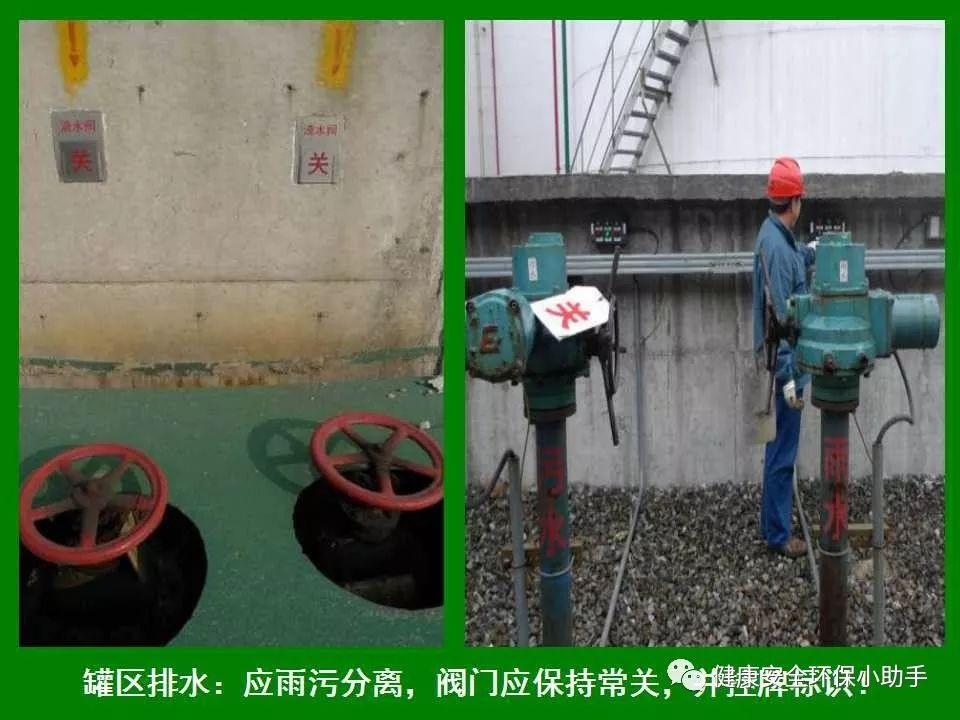helmet: (762, 152, 809, 202)
